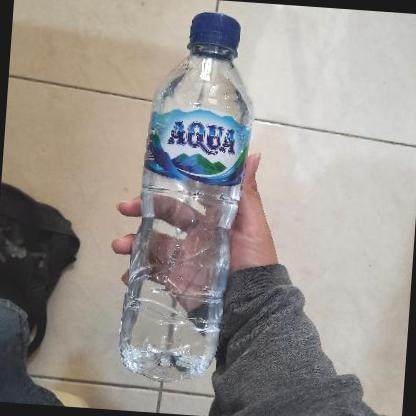plastic_bottles: (114, 5, 260, 384)
